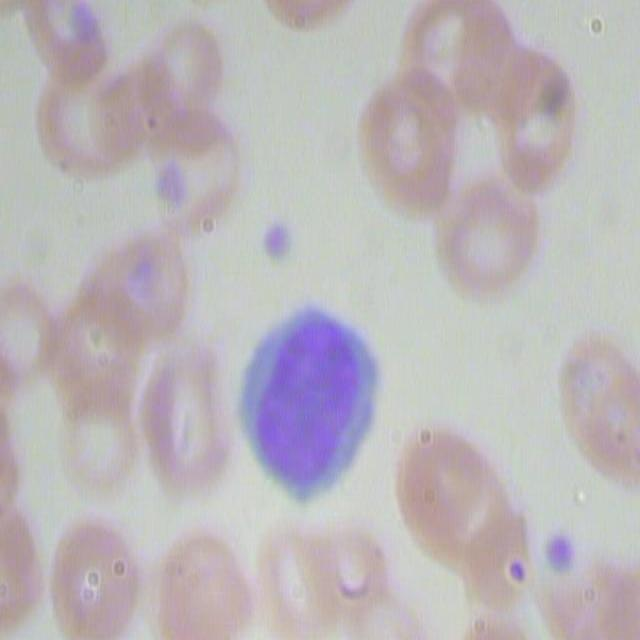RBC: (390, 415, 520, 570), (122, 326, 231, 498), (390, 0, 538, 115), (354, 71, 462, 219), (32, 53, 146, 184), (430, 174, 542, 302), (128, 3, 232, 137), (491, 48, 584, 194), (45, 509, 147, 640), (82, 214, 183, 339), (559, 325, 640, 479), (47, 276, 135, 408), (160, 525, 255, 640), (57, 379, 151, 483), (256, 508, 327, 640), (0, 266, 69, 396), (25, 0, 122, 77), (249, 0, 358, 32)
WBC: (232, 307, 382, 494)
platelets: (535, 518, 584, 583), (254, 214, 298, 275), (151, 158, 195, 208)
